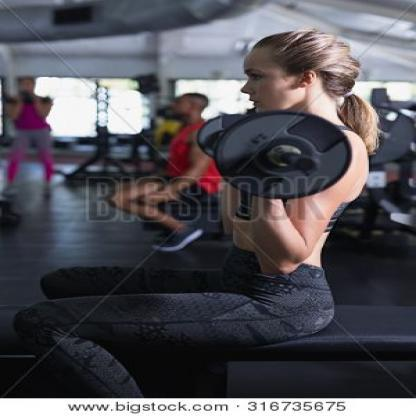Barbell: (213, 108, 355, 206)
